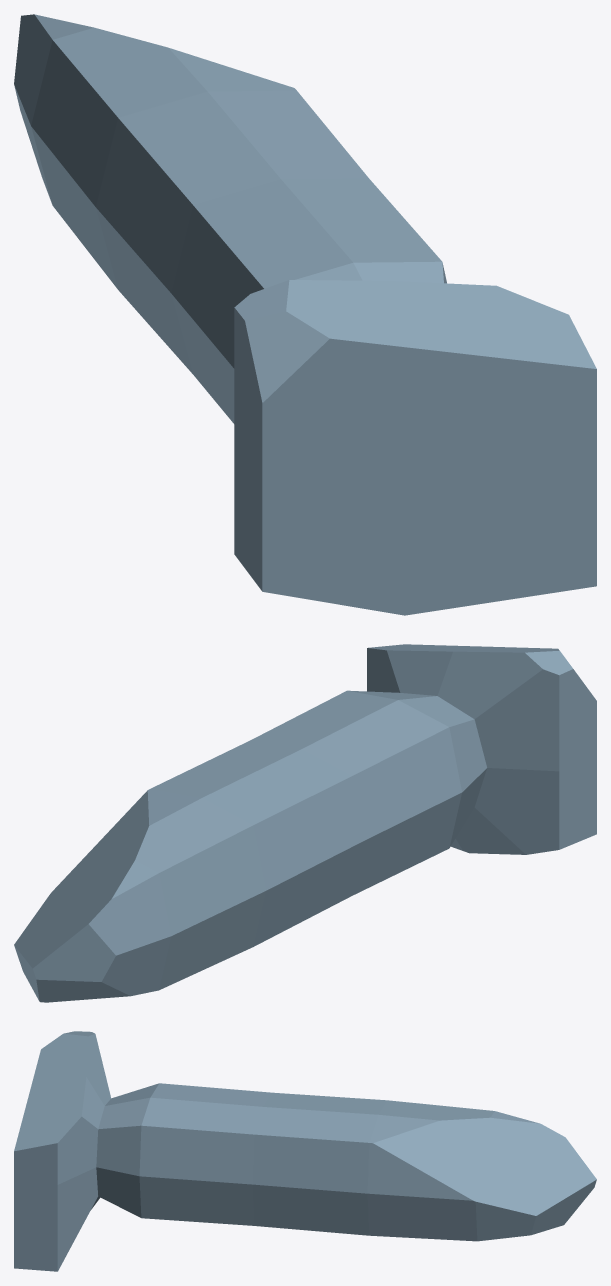
Rendered from stolb2.fbx.
3 renders of one model, top to bottom at view 1: azimuth 30°, elevation 25°; view 2: azimuth 150°, elevation 25°; view 3: azimuth 270°, elevation 25°, orthographic. The views are drawn at different scales.
Parts seen in each view (by area): view 1: Circle.045; view 2: Circle.045; view 3: Circle.045.
Part boxes in pixels (<box>): Circle.045: <box>14,14,596,615</box>; Circle.045: <box>14,644,596,1002</box>; Circle.045: <box>14,1031,596,1271</box>.
Bounding box in the file's own units: 165 × 132 × 411.
